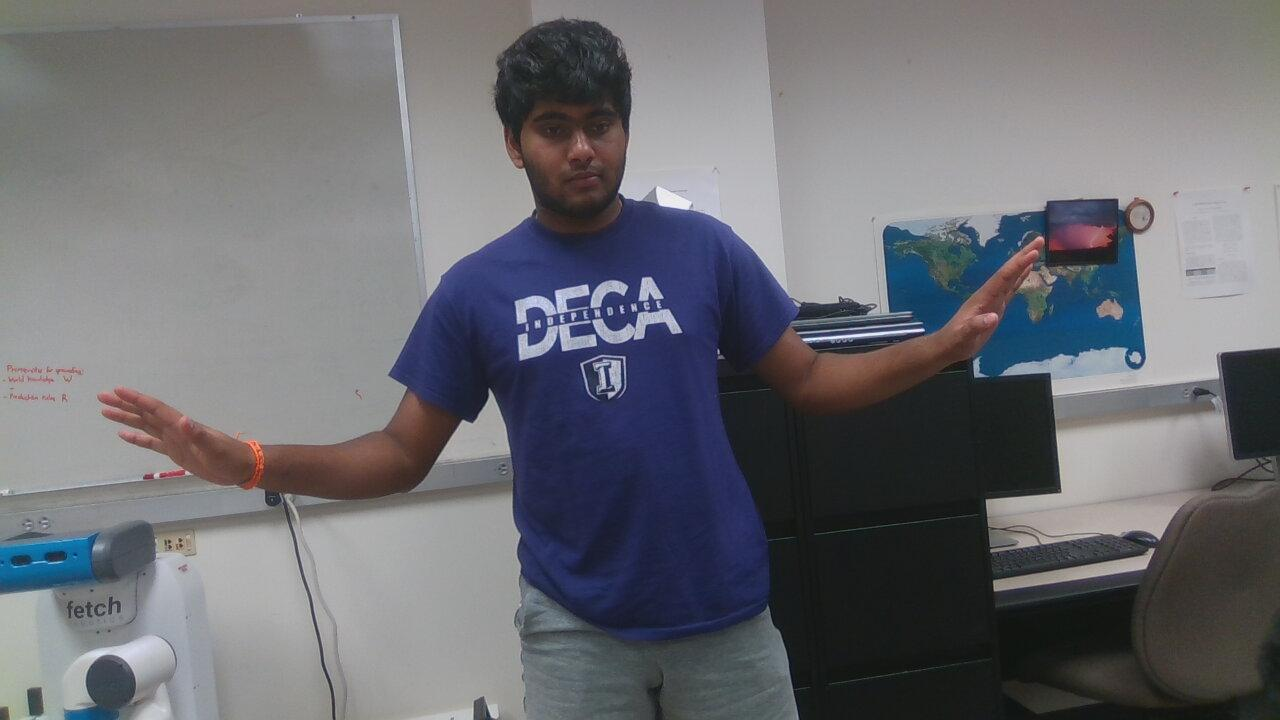hands: (86, 377, 274, 519), (946, 222, 1057, 381)
